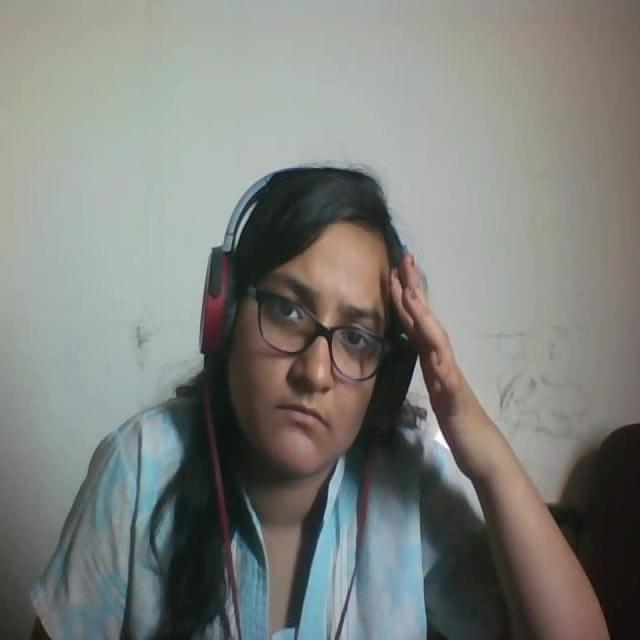Bored: (189, 154, 450, 503)
